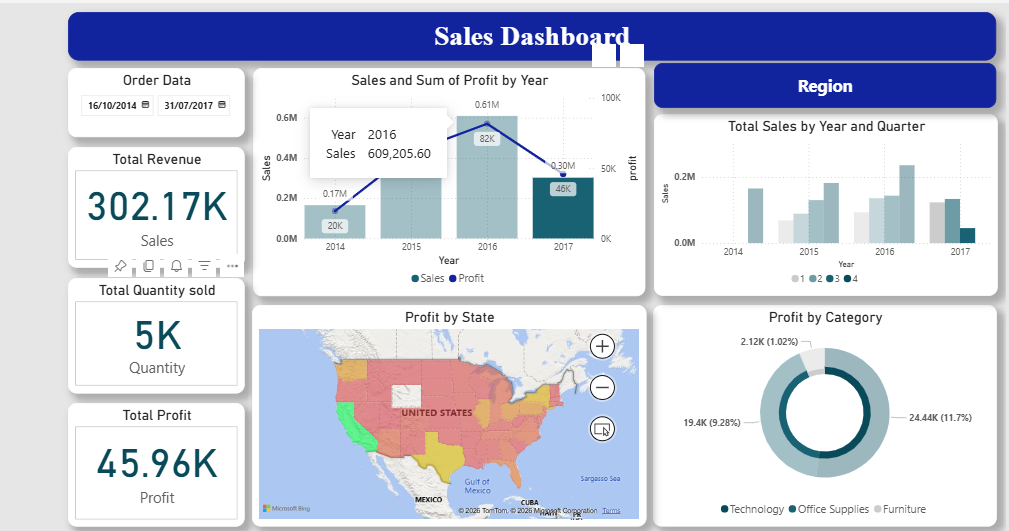

The page's visual inventory and layout, read from the dashboard file:
{"tool":"powerbi","page":{"name":"Sales","canvas":[1280,720],"ordinal":0},"visuals":[{"type":"textbox","box":[7.3,11.7,1261.5,65.9],"z":0},{"type":"lineClusteredColumnComboChart","title":"Sales and Sum of Profit by Year","fields":{"Category":["Orders.Year"],"Y":["Sum(Orders.Sales)"],"Y2":["Sum(Orders.Profit)"]},"box":[257.6,87.8,532.7,310.2],"z":1000},{"type":"donutChart","title":"Profit by Category","fields":{"Category":["Orders.Category"],"Y":["Sum(Orders.Profit)"]},"box":[802,409.8,466.8,301.5],"z":2000},{"type":"slicer","title":"Order Data","fields":{"Values":["Orders.Order Date"]},"box":[7.3,87.8,240,93.7],"z":3000},{"type":"cardVisual","title":"Total Revenue","fields":{"Data":["Sum(Orders.Sales)"]},"box":[7.3,196.1,240,163.9],"z":4000},{"type":"cardVisual","title":"Total Quantity sold","fields":{"Data":["Sum(Orders.Quantity)"]},"box":[7.3,373.2,240,156.6],"z":5000},{"type":"cardVisual","title":"Total Profit","fields":{"Data":["Sum(Orders.Profit)"]},"box":[7.3,542.9,240,168.3],"z":6000},{"type":"clusteredColumnChart","title":"Total Sales by Year and Quarter","fields":{"Category":["Orders.Year"],"Y":["Sum(Orders.Sales)"],"Series":["Orders.Quarter"]},"box":[803.4,150.7,466.8,247.3],"z":7000},{"type":"filledMap","fields":{"Category":["Orders.State"]},"box":[256.1,409.8,535.6,301.5],"z":8000},{"type":"actionButton","box":[803.4,82,465.4,61.5],"z":9000}]}

Visuals, with their boxes in screenshot pixels (x1, y1, x2, y2):
textbox: select_region(74, 11, 991, 59)
"Sales and Sum of Profit by Year" lineClusteredColumnComboChart: select_region(256, 66, 643, 292)
"Profit by Category" donutChart: select_region(651, 301, 991, 520)
"Order Data" slicer: select_region(74, 66, 248, 135)
"Total Revenue" cardVisual: select_region(74, 145, 248, 264)
"Total Quantity sold" cardVisual: select_region(74, 274, 248, 388)
"Total Profit" cardVisual: select_region(74, 397, 248, 520)
"Total Sales by Year and Quarter" clusteredColumnChart: select_region(652, 112, 992, 292)
filledMap - Orders.State: select_region(255, 301, 644, 520)
actionButton: select_region(652, 62, 991, 107)
